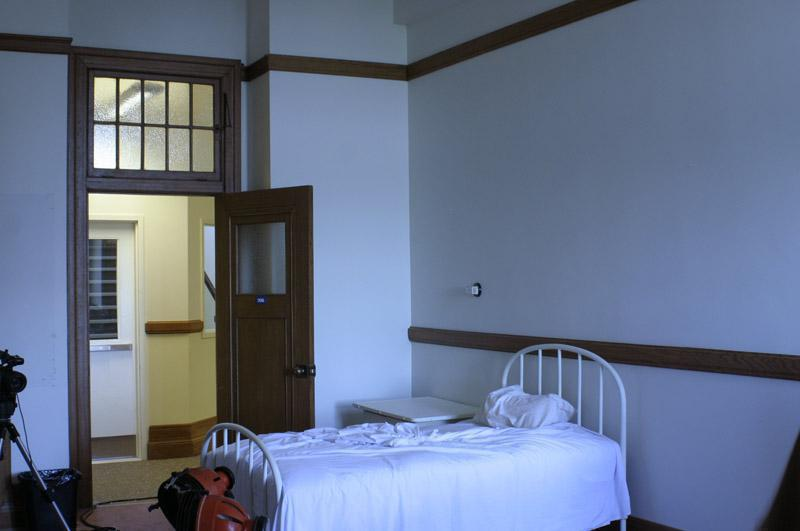Bote de Basura: (23, 464, 83, 528)
Cama: (159, 373, 643, 523)
Otro Obstaculo: (0, 353, 50, 529), (156, 466, 248, 526)
Puerta: (215, 192, 318, 430), (89, 220, 140, 457)
